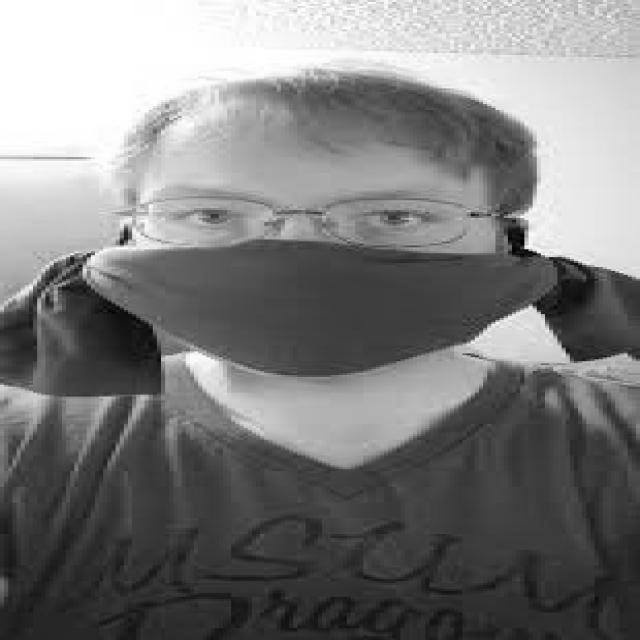fake: (83, 238, 561, 380)
real: (115, 95, 516, 390)
